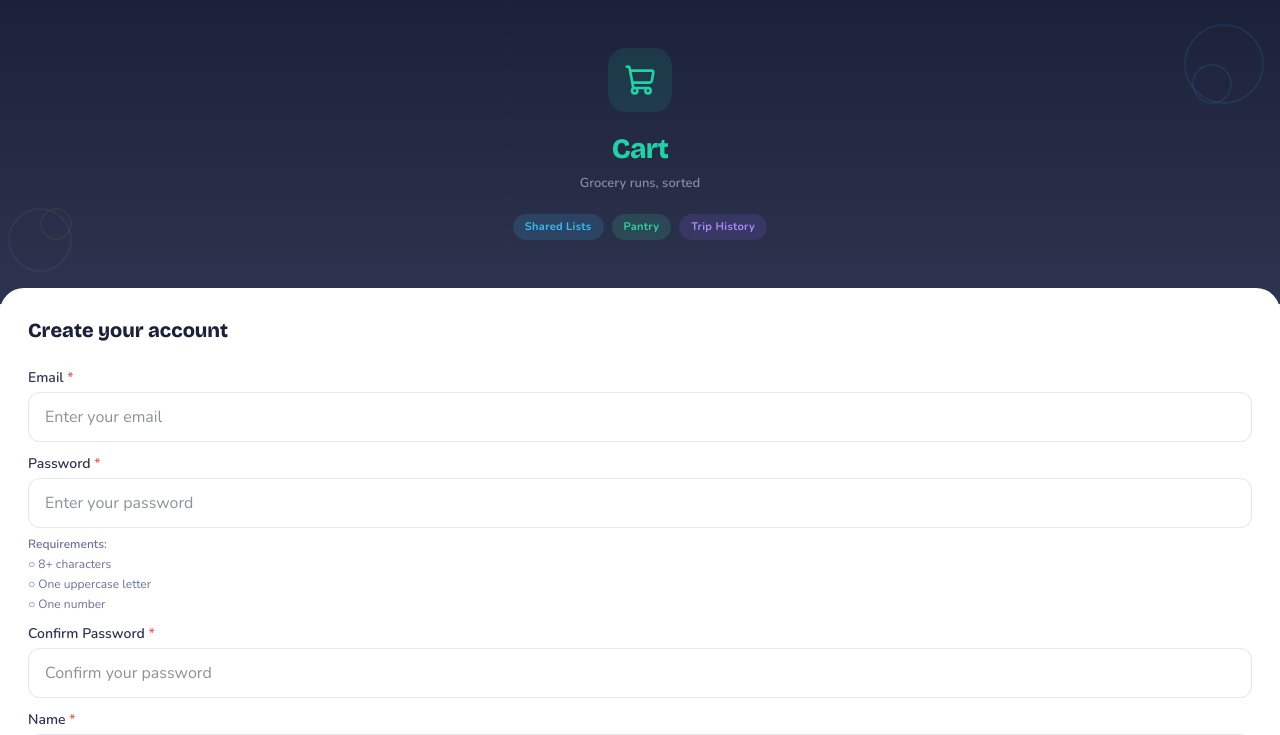
RegisterPage › validates password length
Step 1. Type "short" into the password field labelled "Password" → (640, 503), box [28, 478, 1252, 528]
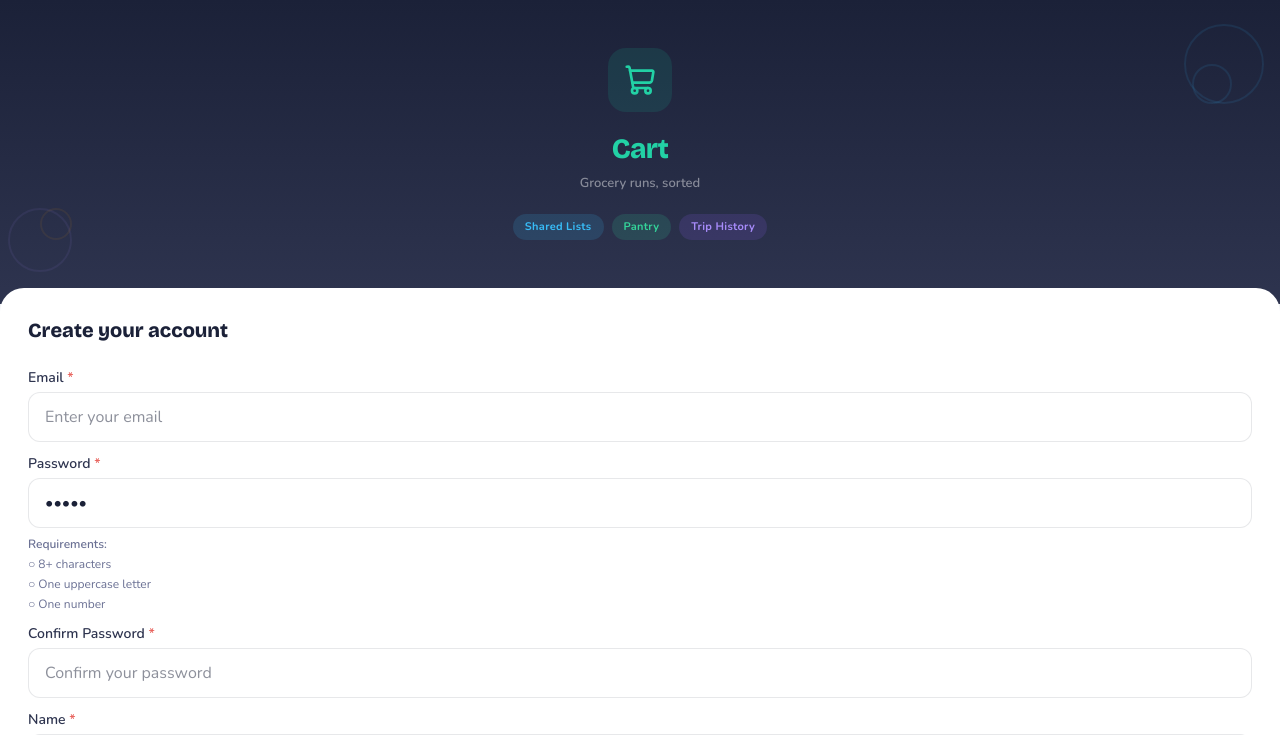
Step 2. Leave the password field labelled "Password", box [28, 478, 1252, 528]
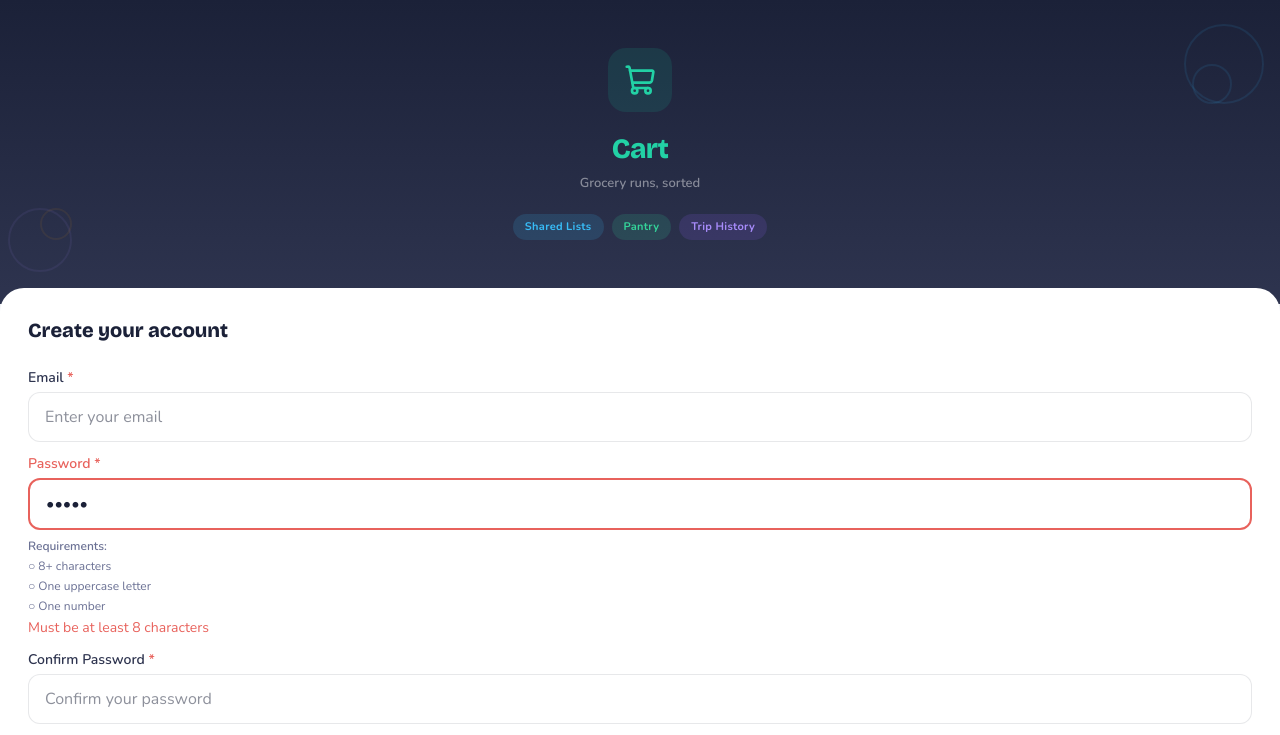
Expected: the text "Must be at least 8 characters" is shown, [28, 618, 209, 637]
